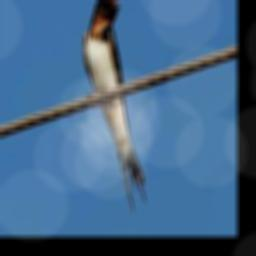Swallow: (83, 0, 146, 211)
